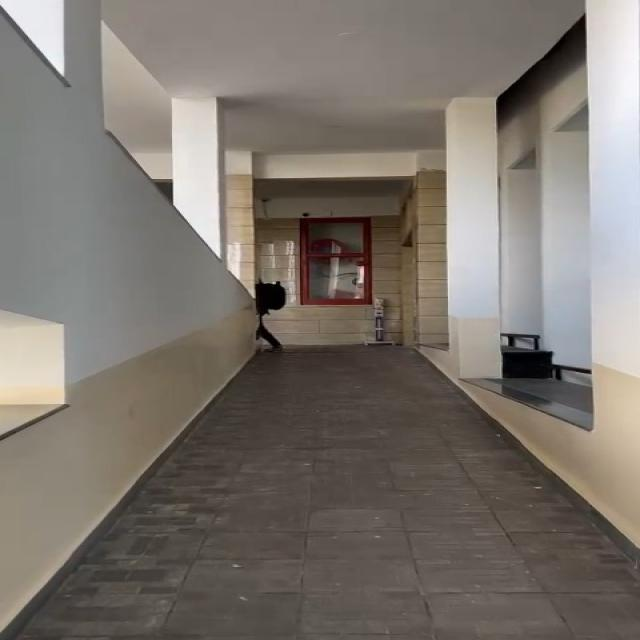floor: (118, 494, 626, 640), (262, 338, 439, 512)
wall: (0, 0, 259, 421), (415, 59, 640, 368)
